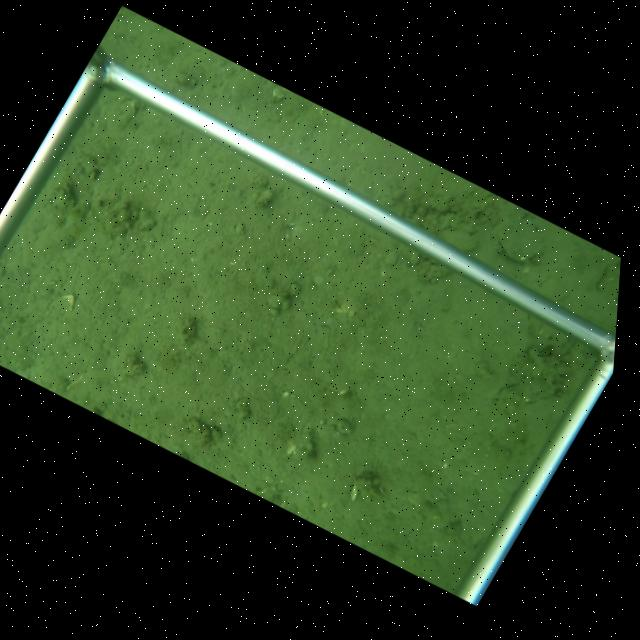Oyster-Closed: (493, 213, 546, 267)
